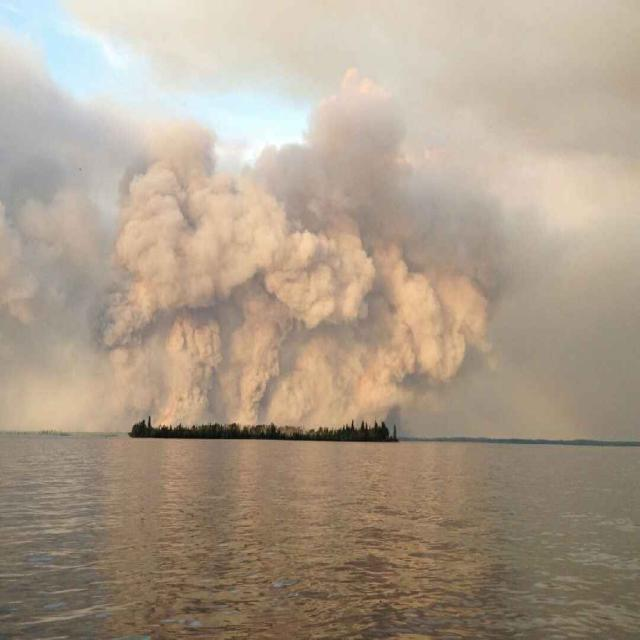Smoke: (90, 90, 516, 442)
